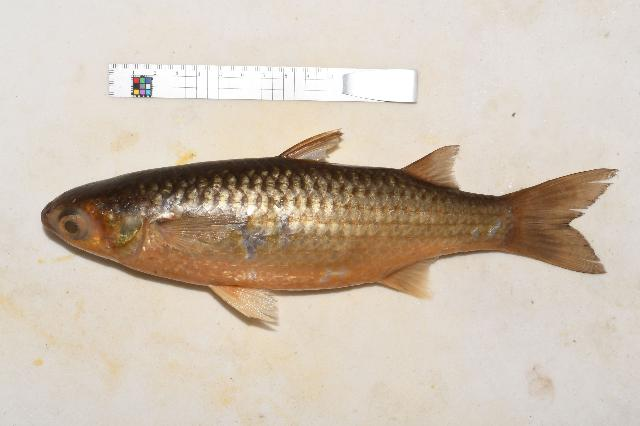Mulut: (34, 196, 78, 260)
Sirip Anal: (374, 247, 458, 311)
Sirip Dada: (146, 206, 234, 258)
Sirip Ekor: (508, 158, 620, 286)
Sirip Perut: (200, 274, 290, 333)
Sirip Punggung: (272, 115, 468, 194)
